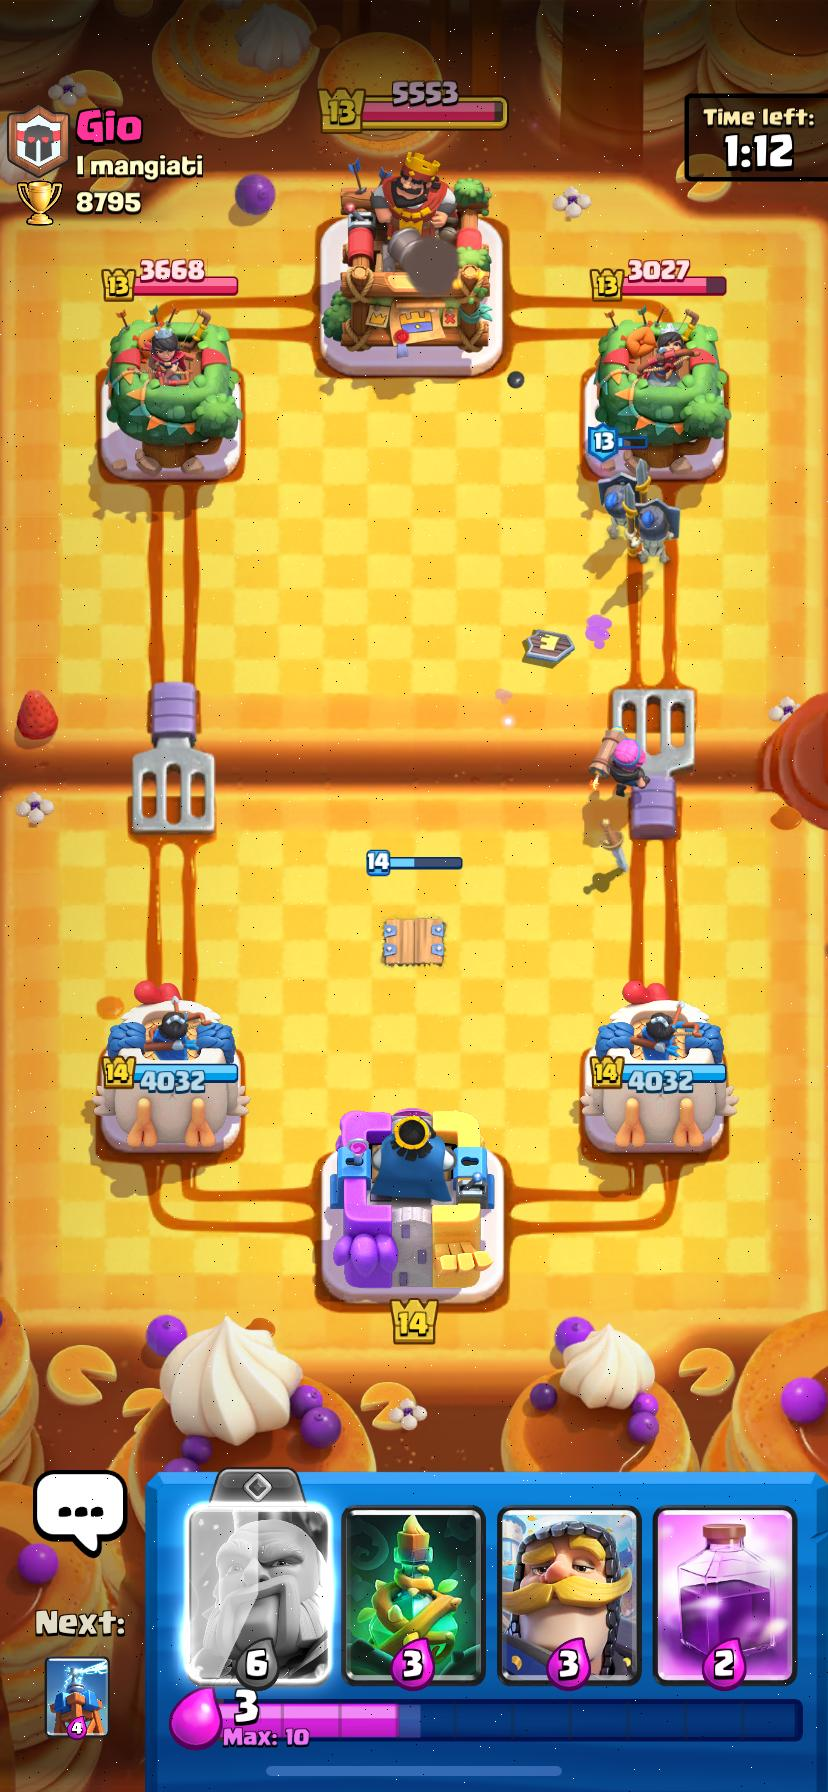EKingTower: (321, 152, 502, 375)
EnemyPrincessTower: (106, 310, 241, 453), (595, 309, 729, 453)
OFirecrack: (590, 729, 648, 795)
OGuard: (623, 485, 679, 563), (599, 461, 648, 536)
OTesla: (383, 917, 445, 966)
OwnKingTower: (321, 1109, 503, 1303)
OwnPrincessTower: (580, 982, 737, 1154), (93, 983, 248, 1153)
